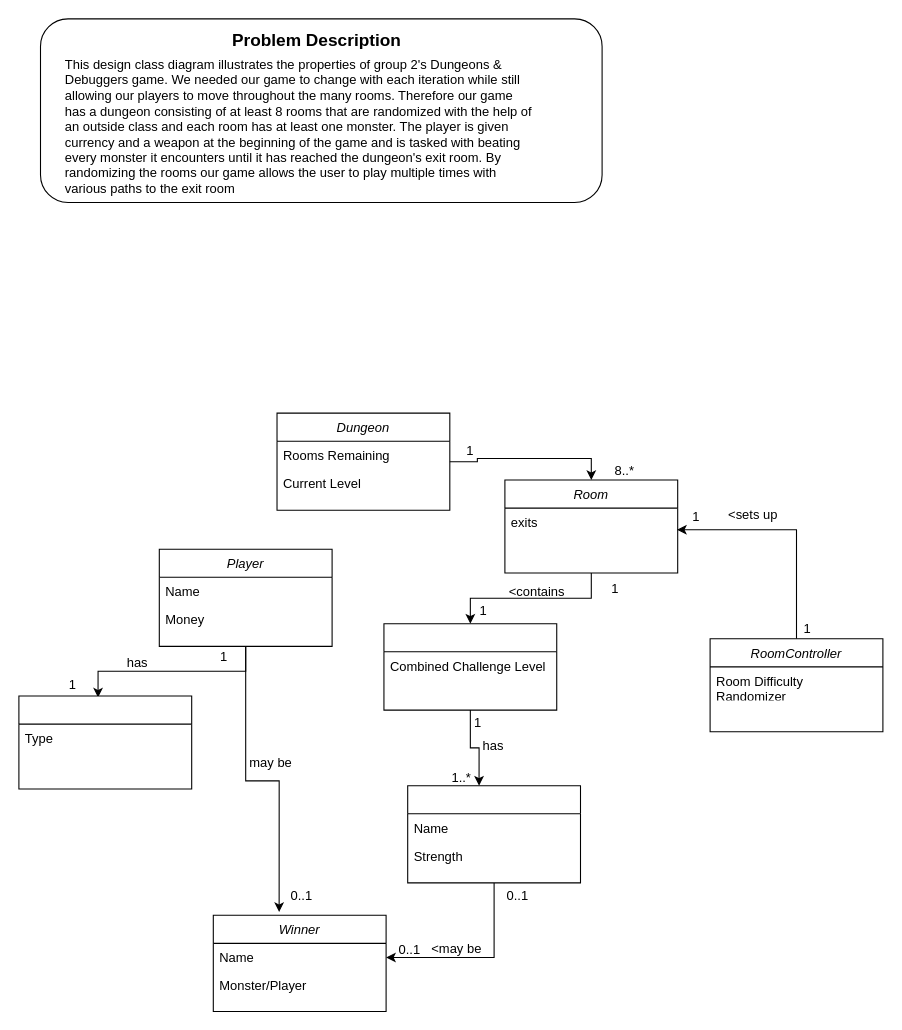
Image size: 902x1030. Some labels were removed from this diagram. Each missing label, with the box of its shape:
Challenger Monsters: (383, 623, 557, 710)
Monster: (407, 785, 580, 883)
Weapon: (18, 695, 192, 789)
